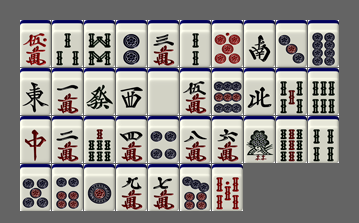0m: (20, 20, 51, 67)
0p: (212, 20, 243, 67)
0s: (212, 164, 243, 211)
1m: (52, 68, 83, 115)
1p: (84, 164, 115, 211)
1s: (244, 116, 275, 163)
1z: (20, 68, 51, 115)
2m: (52, 116, 83, 163)
2p: (116, 20, 147, 67)
2s: (180, 20, 211, 67)
2z: (244, 20, 275, 67)
3m: (148, 20, 179, 67)
3p: (276, 20, 307, 67)
3s: (52, 20, 83, 67)
3z: (116, 68, 147, 115)
4m: (116, 116, 147, 163)
4p: (148, 116, 179, 163)
4s: (308, 116, 339, 163)
4z: (244, 68, 275, 115)
5m: (180, 68, 211, 115)
5p: (20, 164, 51, 211)
5s: (276, 68, 307, 115)
5z: (148, 68, 179, 115)
6m: (212, 116, 243, 163)
6p: (52, 164, 83, 211)
6s: (308, 68, 339, 115)
6z: (84, 68, 115, 115)
7m: (148, 164, 179, 211)
7p: (180, 164, 211, 211)
7s: (84, 116, 115, 163)
7z: (20, 116, 51, 163)
8m: (180, 116, 211, 163)
8p: (308, 20, 339, 67)
8s: (84, 20, 115, 67)
9m: (116, 164, 147, 211)
9p: (212, 68, 243, 115)
9s: (276, 116, 307, 163)
